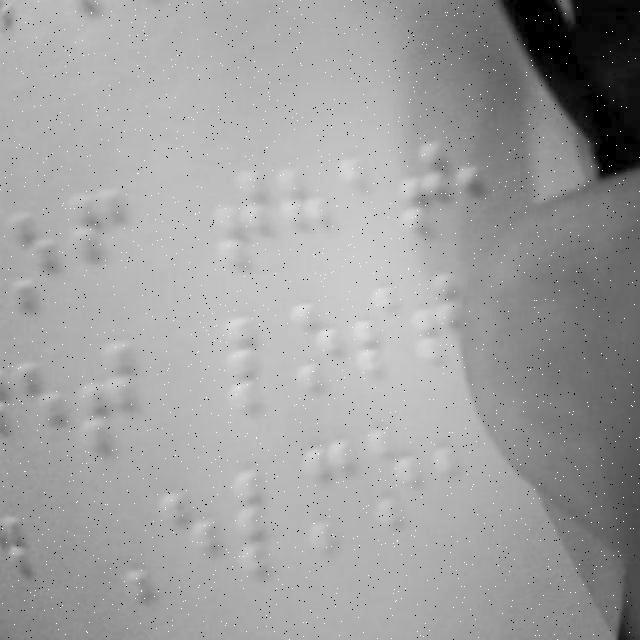A: (336, 147, 390, 257)
E: (162, 483, 228, 593), (15, 352, 71, 464)
F: (68, 182, 128, 298)
H: (278, 154, 330, 262)
L: (232, 464, 296, 584), (226, 312, 284, 412)
M: (304, 441, 358, 554)
O: (1, 204, 64, 316), (366, 419, 429, 531), (288, 294, 348, 392)
R: (348, 273, 402, 377)
S: (80, 340, 142, 454), (218, 168, 274, 276), (397, 138, 447, 252)
